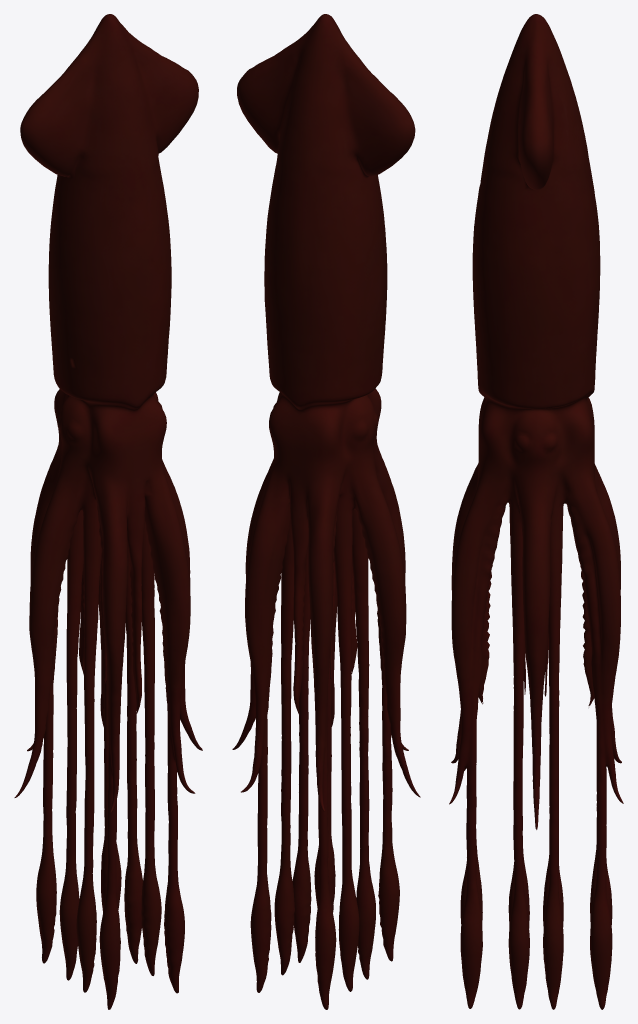
File: Squid.glb
The picture shows the model from 3 angles, left to right: view 1: azimuth 30°, elevation 25°; view 2: azimuth 150°, elevation 25°; view 3: azimuth 270°, elevation 25°; orthographic projection.
Visible parts, largest first — view 1: model; view 2: model; view 3: model.
Part boxes in pixels (left/top/right/bottom): model: left=14, top=14, right=202, bottom=1009; model: left=232, top=14, right=420, bottom=1009; model: left=449, top=14, right=623, bottom=1009.
Size of the model in its own units: 0.3902 by 1.9 by 0.3079.
Materials: 1 (1 with a texture image).
